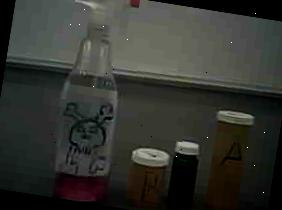Bottle A: (199, 106, 256, 210)
Bottle B: (123, 146, 171, 206)
Bottle C: (164, 136, 204, 208)
hazard: (38, 0, 146, 207)
